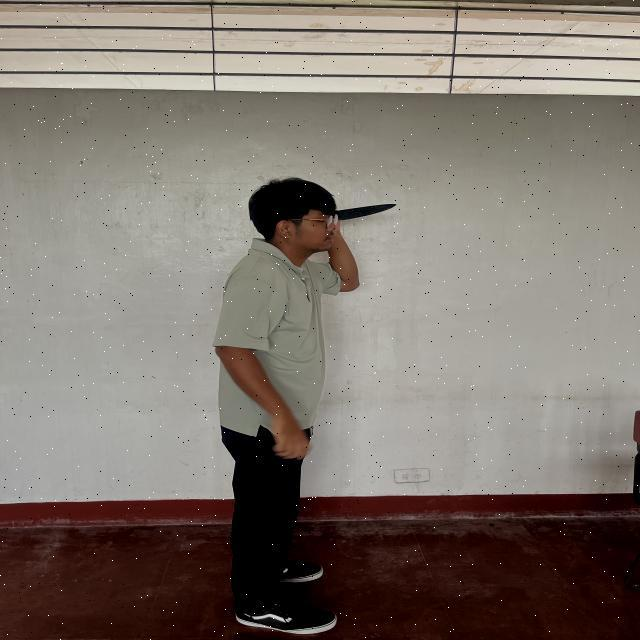knife: (332, 202, 397, 221)
non-violence: (218, 179, 398, 634)
